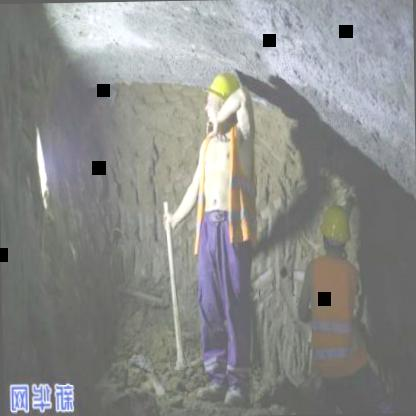helmet: (314, 203, 350, 253), (208, 70, 238, 121)
